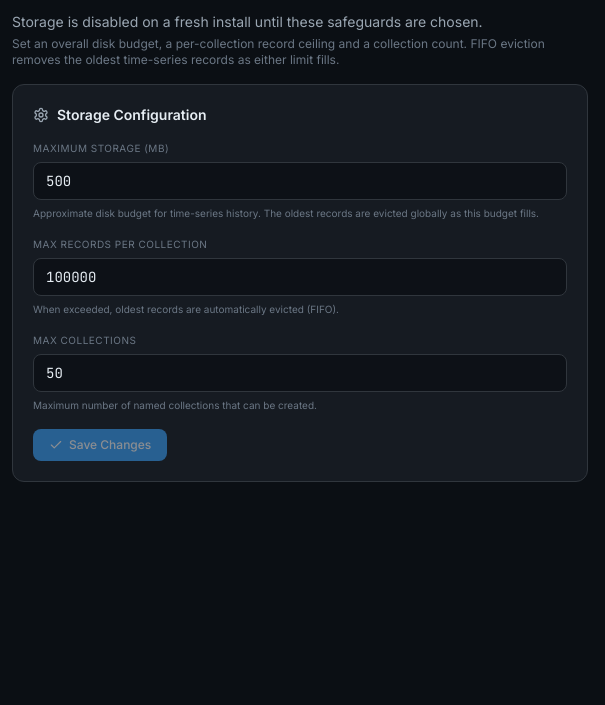
Test: SettingsPanel › shows the server error when applying the change fails
Replace the text in the number field showing "500" below "Maximum Storage (MB)" with "800" at (300, 181), box [33,162,567,200]
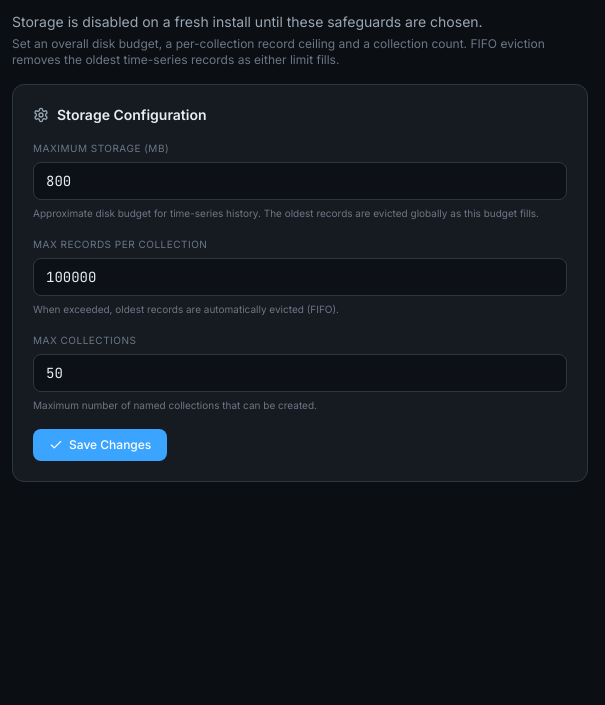
Click the button "Save Changes".
click(100, 445)  # box [33,429,167,461]
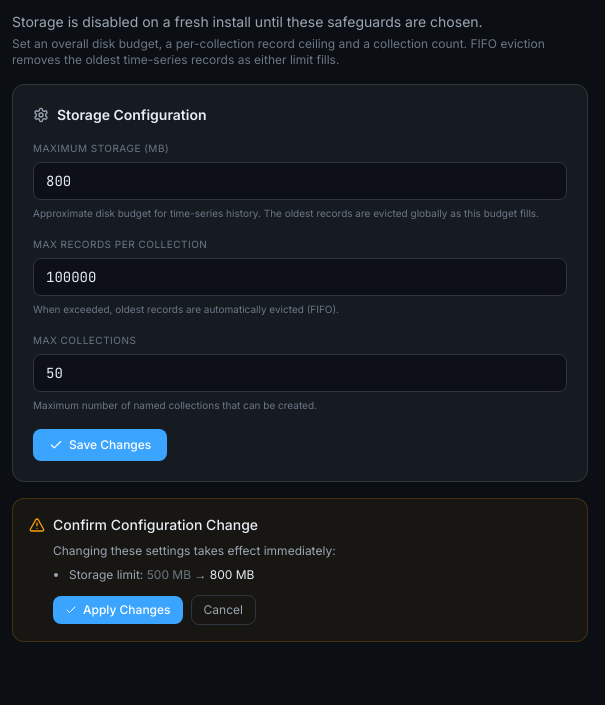
Click the button "Apply Changes".
click(118, 610)  # box [53,596,183,624]
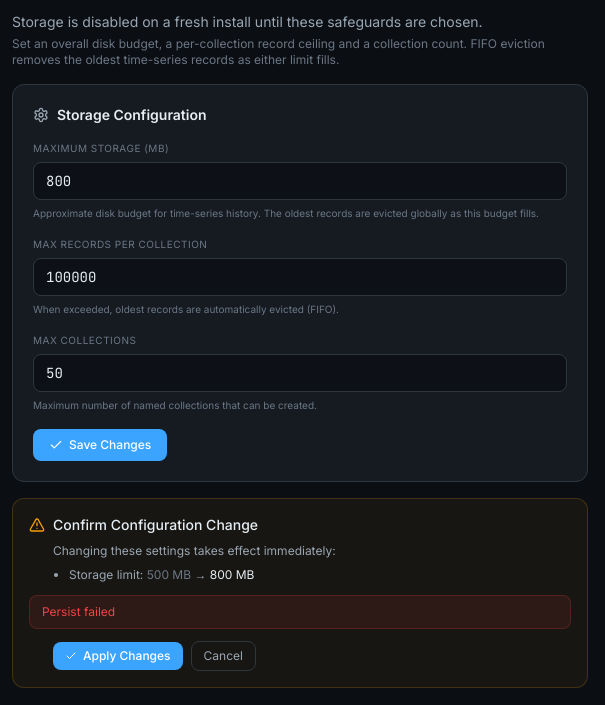
Expected: the text "Persist failed" is shown, [42,604,115,619]
